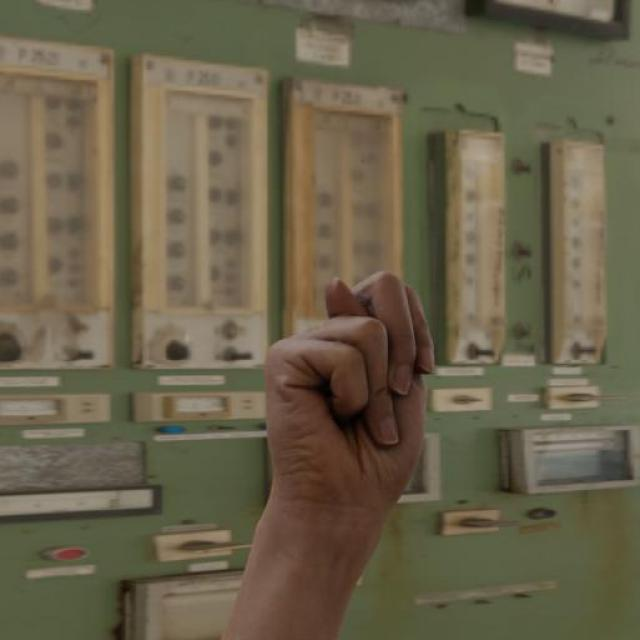N: (260, 268, 437, 514)
